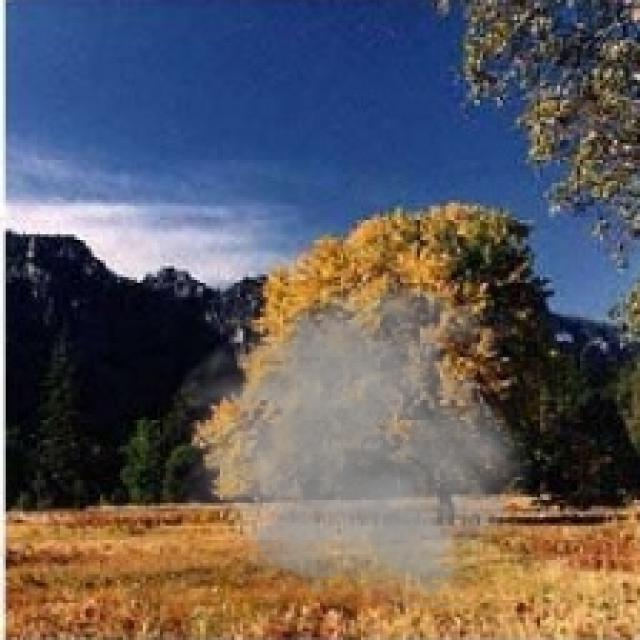Smoke: (172, 254, 537, 609)
